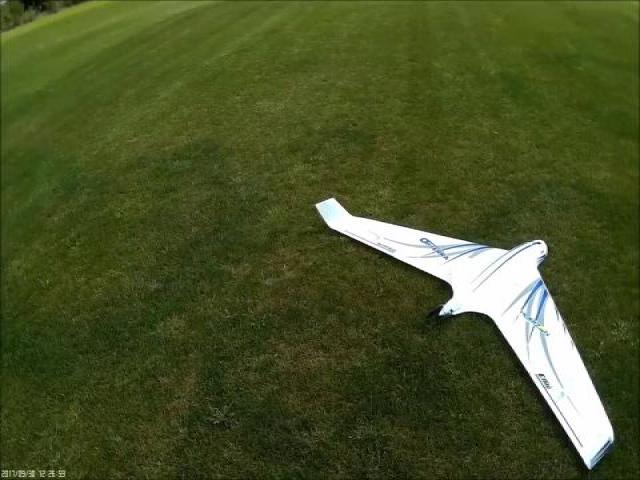flying wing: (310, 175, 615, 469)
